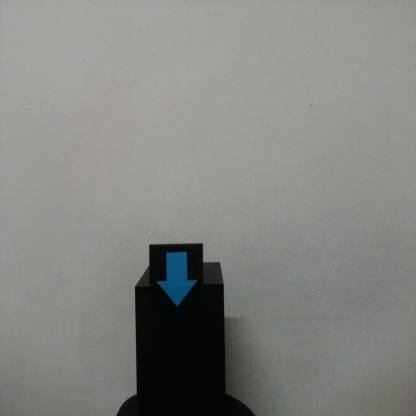id_2: (149, 244, 204, 312)
